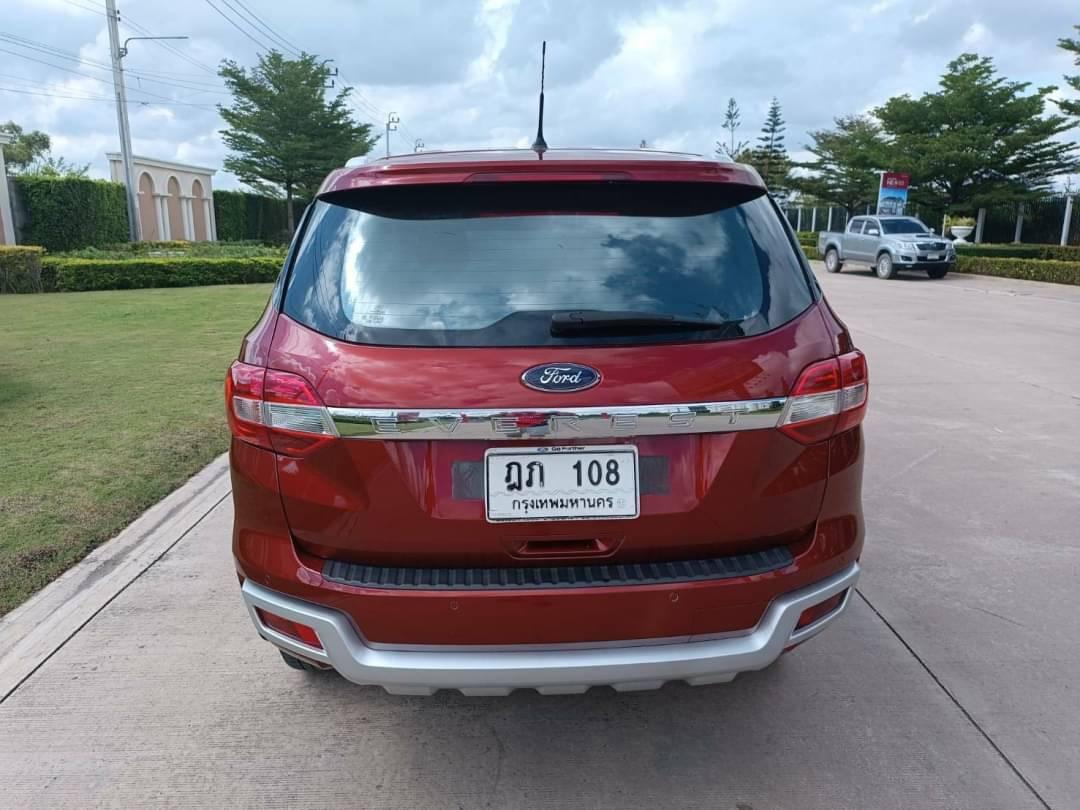license-plate: (479, 444, 641, 525)
